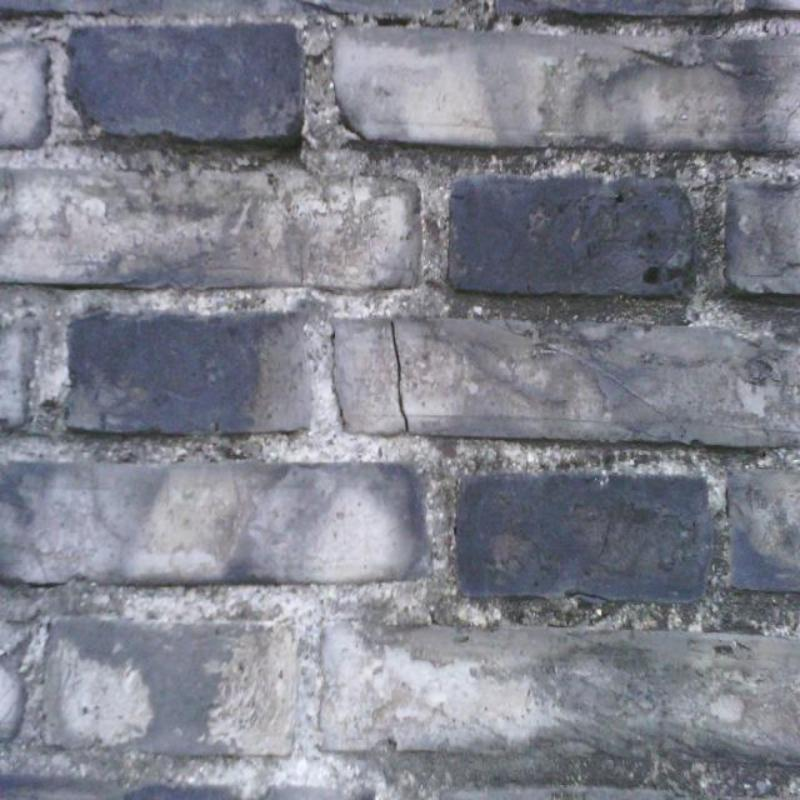pothole: (391, 320, 408, 431)
